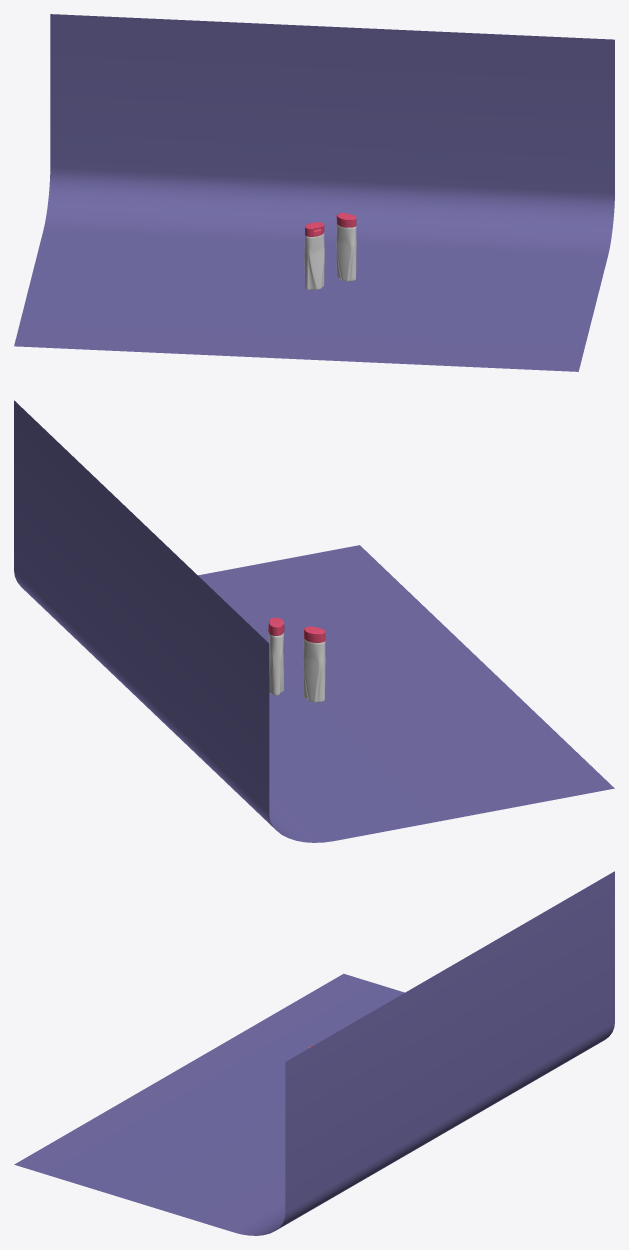
The model's file is Sunsilk.fbx.
3 views of the same model, one above another, from view 1: azimuth 30°, elevation 25°; view 2: azimuth 150°, elevation 25°; view 3: azimuth 270°, elevation 25° (orthographic). The views are drawn at different scales.
Parts seen in each view (by area): view 1: Plane, Cube.006, Cube; view 2: Plane, Cube, Cube.006; view 3: Plane.
Part boxes in pixels (x1,y1,x2,y2): Plane: [14, 14, 614, 371]; Cube.006: [336, 223, 356, 281]; Cube: [304, 232, 324, 289]; Plane: [14, 400, 614, 842]; Cube: [303, 638, 325, 702]; Cube.006: [268, 632, 283, 695]; Plane: [14, 871, 614, 1235].
Bounding box in the file's own units: 4588 × 1451 × 4243.
